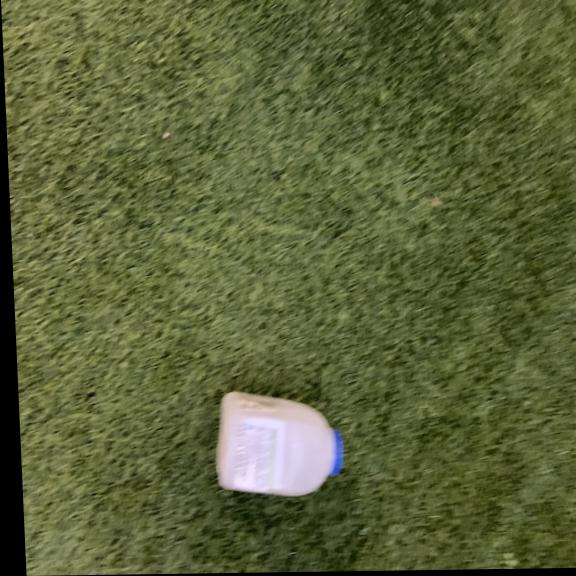Plastik: (207, 394, 347, 498)
